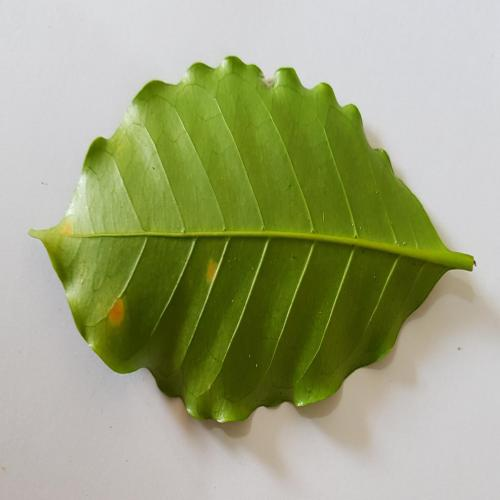phoma: (61, 223, 73, 234)
